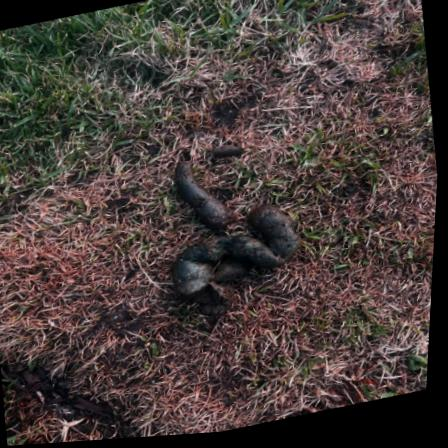dog-poop: (117, 125, 331, 330)
